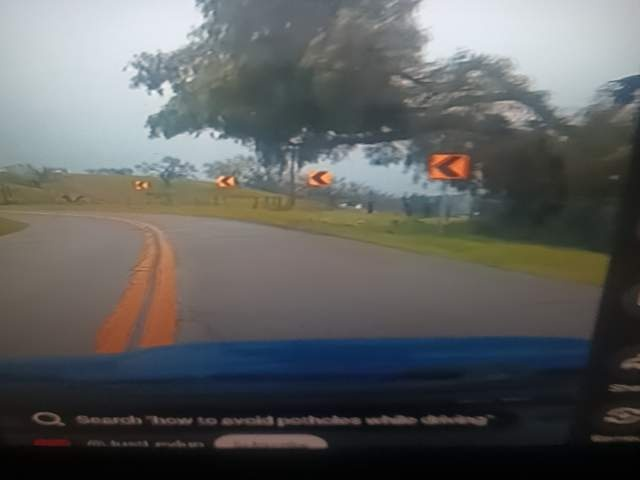pothole: (104, 403, 313, 480)
